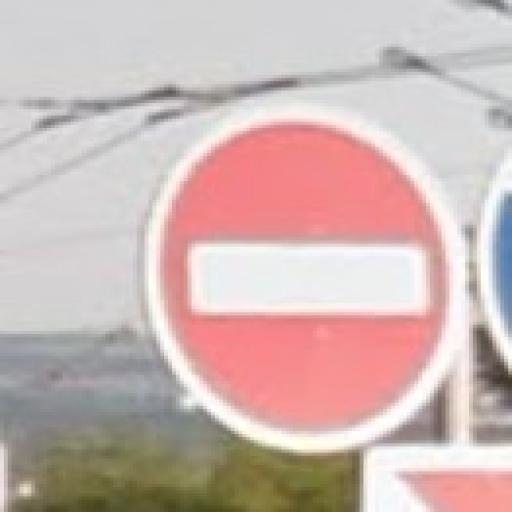traffic_sign: (146, 110, 462, 454)
